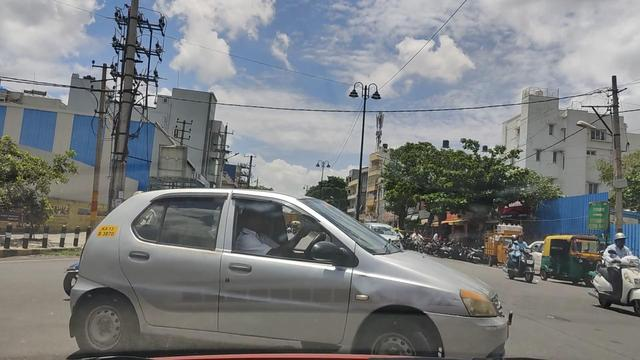LMV: (69, 176, 515, 360)
